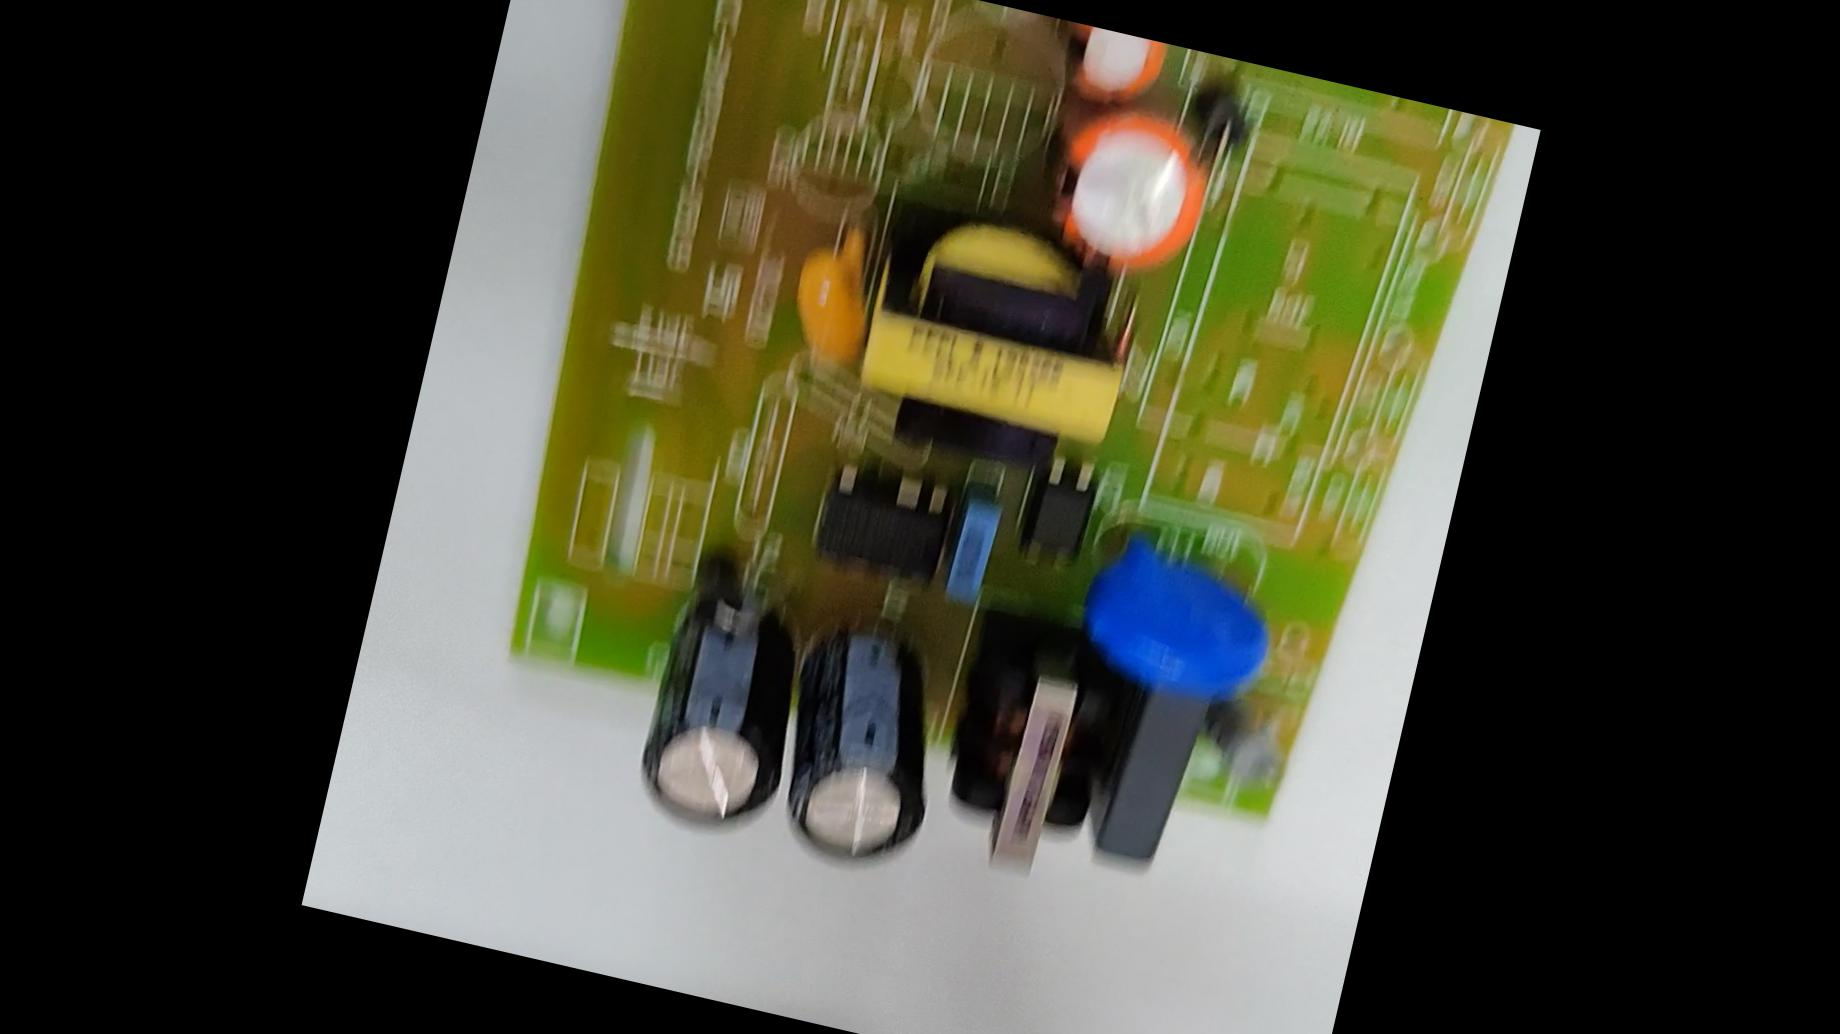Cap1: (1021, 83, 1231, 300)
Cap2: (1025, 14, 1183, 119)
Cap3: (761, 613, 965, 894)
Cap4: (615, 571, 826, 852)
MOSFET: (795, 447, 962, 603)
Mov: (1055, 518, 1298, 721)
Transformer: (829, 214, 1150, 499), (923, 651, 1132, 900)
